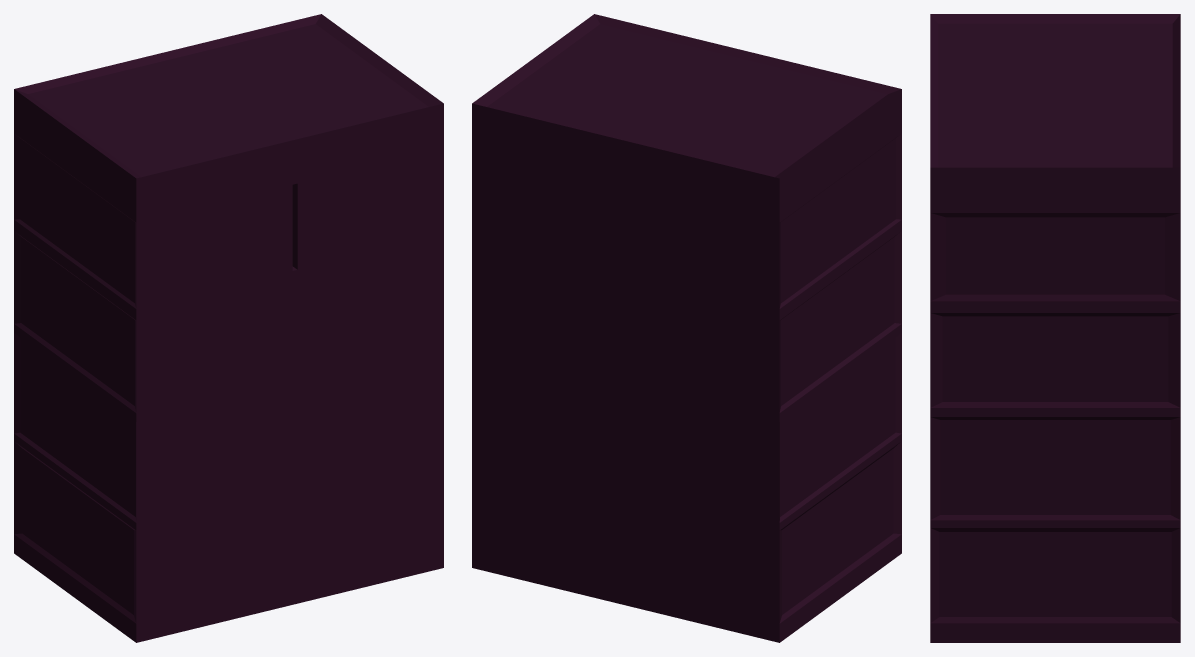
Rendered from UNFIN_DRAWER.fbx.
3 views of the same model, side by side, from view 1: azimuth 30°, elevation 25°; view 2: azimuth 150°, elevation 25°; view 3: azimuth 270°, elevation 25° (orthographic). The views are drawn at different scales.
Parts seen in each view (by area): view 1: Cube; view 2: Cube; view 3: Cube.
Boxes of the visible parts, x1,y1,x2,y2 form: Cube: [14, 14, 443, 642]; Cube: [472, 14, 901, 642]; Cube: [930, 14, 1180, 642].
Bounding box in the file's own units: 547 × 790 × 377.
